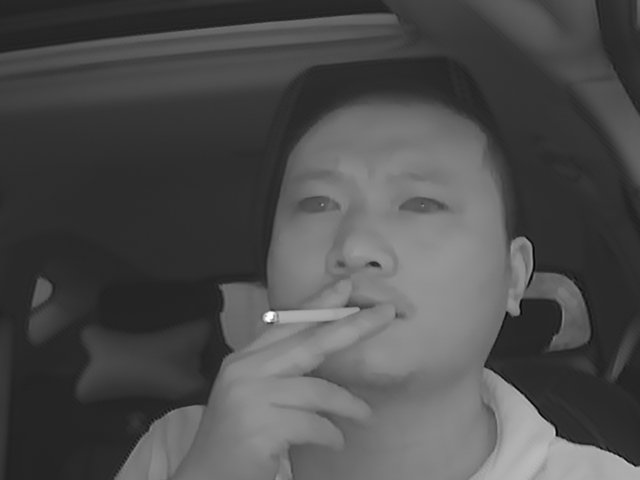hand: (237, 278, 387, 445)
